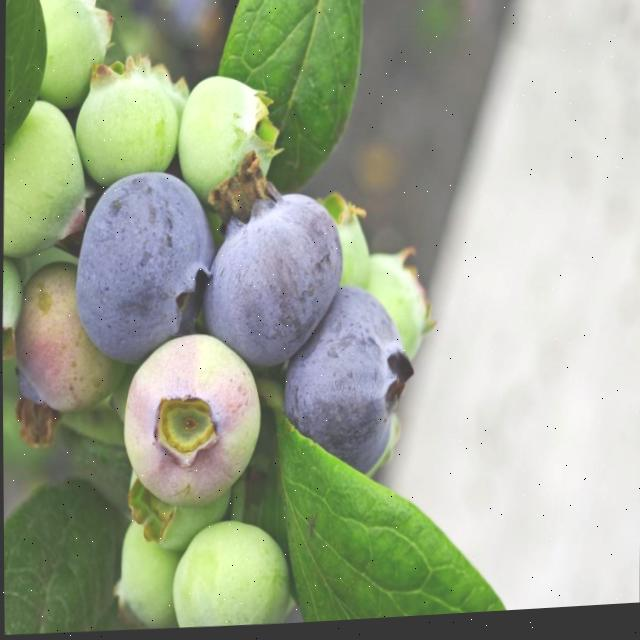RipeBlueBerry: (71, 168, 215, 367), (203, 182, 345, 371), (276, 285, 405, 468)
Semi-RipeBlueBerry: (117, 328, 263, 515), (7, 258, 111, 425)
UnripeBlueBerry: (73, 60, 182, 190), (167, 517, 290, 632), (175, 74, 281, 204)
